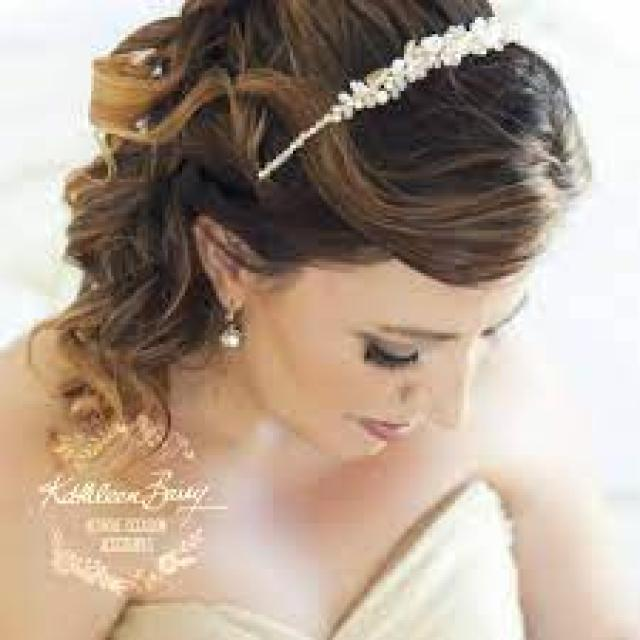Earring: (202, 306, 252, 360)
